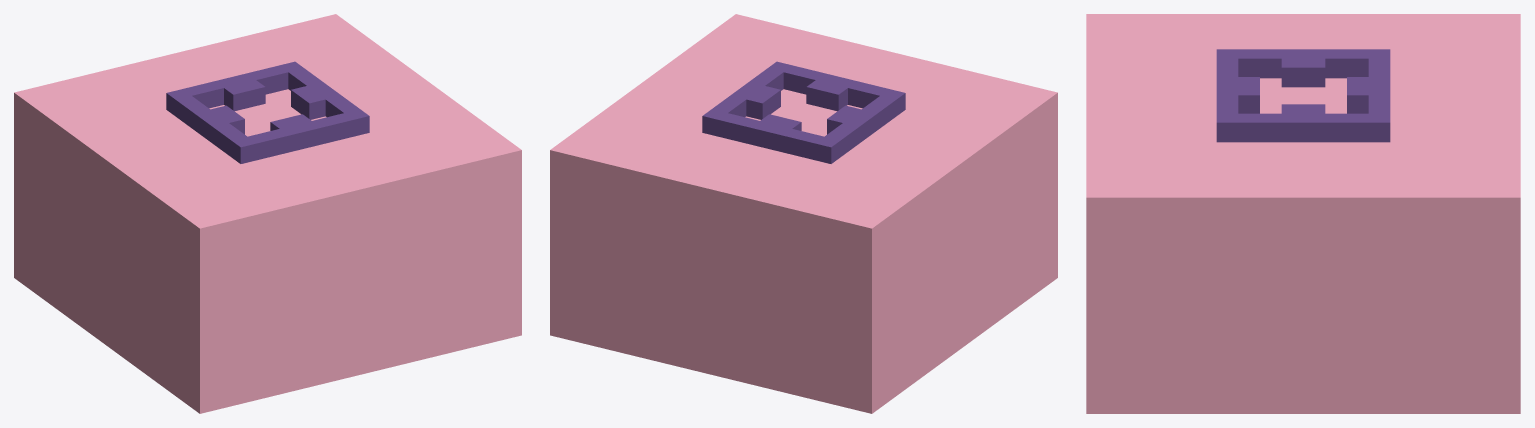
The model's file is GoalOne.obj.
3 views of the same model, side by side, from view 1: azimuth 30°, elevation 25°; view 2: azimuth 150°, elevation 25°; view 3: azimuth 270°, elevation 25° (orthographic). The views are drawn at different scales.
Size of the model in its own units: 2 by 1.2 by 2.
